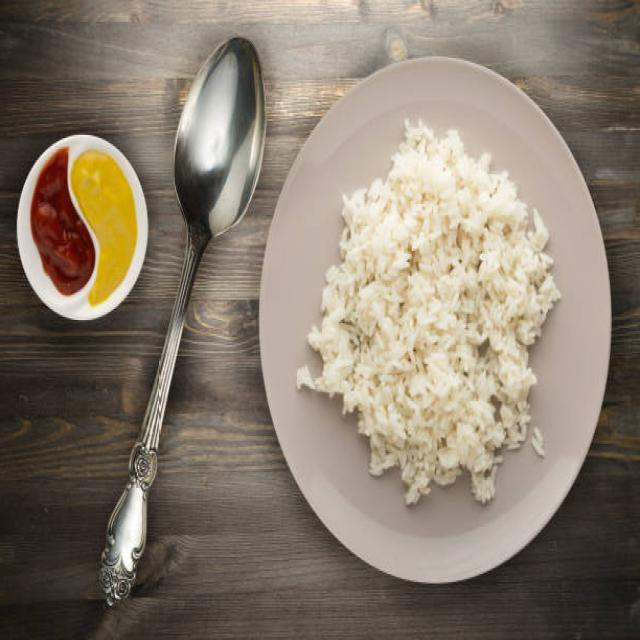Rice: (295, 116, 559, 507)
